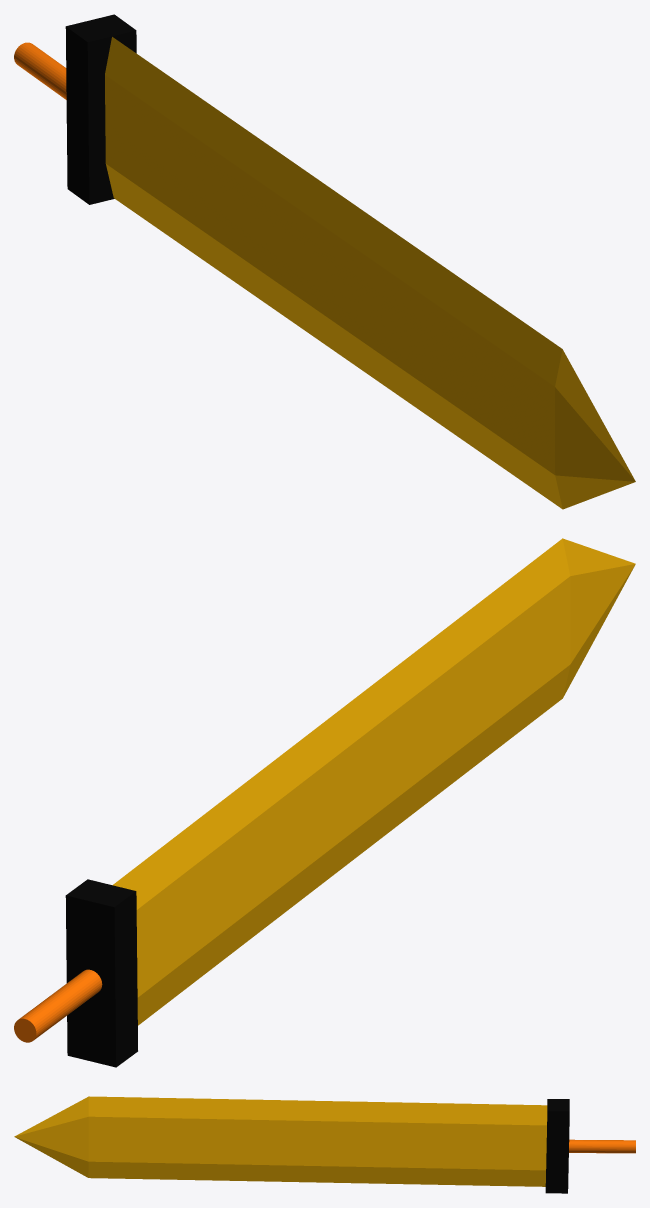
The model's file is BossSword.obj.
3 views of the same model, one above another, from view 1: azimuth 30°, elevation 25°; view 2: azimuth 150°, elevation 25°; view 3: azimuth 270°, elevation 25° (orthographic). The views are drawn at different scales.
Parts seen in each view (by area): view 1: 立方体.001; view 2: 立方体.001; view 3: 立方体.001.
Boxes of the visible parts, <box> form: 立方体.001: <box>14,14,635,509</box>; 立方体.001: <box>14,538,635,1067</box>; 立方体.001: <box>14,1096,635,1193</box>.
Bounding box in the file's own units: 0.1172 × 0.4107 × 2.54.
